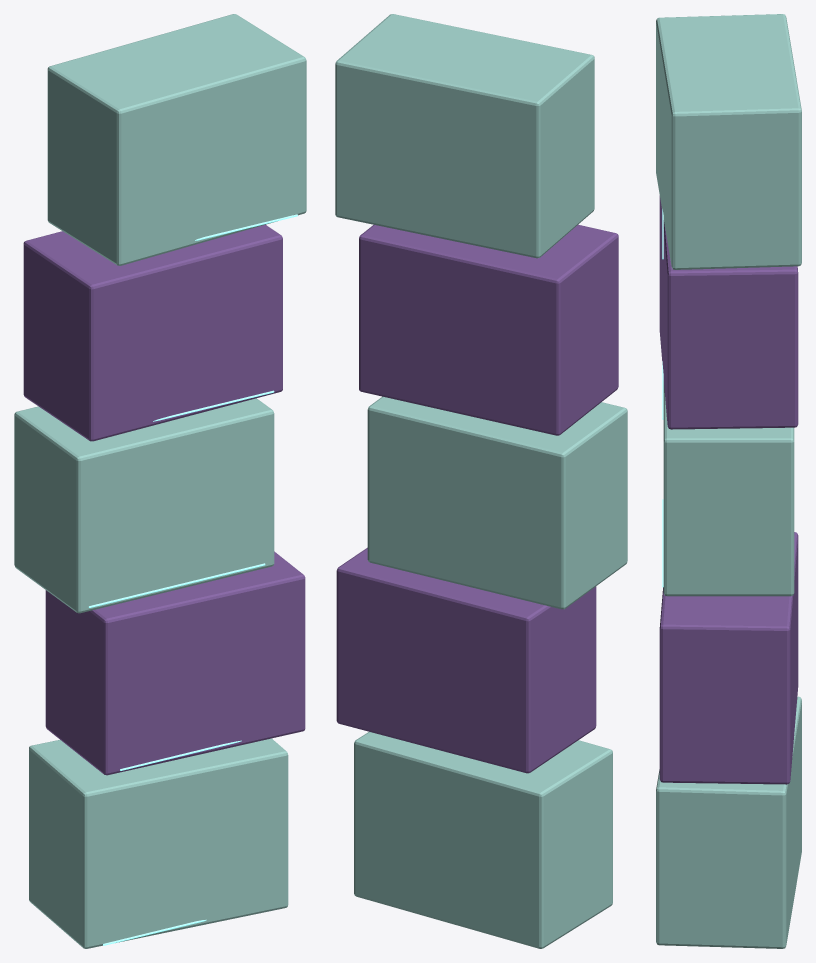
File: monolith.glb
3 views of the same model, side by side, from view 1: azimuth 30°, elevation 25°; view 2: azimuth 150°, elevation 25°; view 3: azimuth 270°, elevation 25° (orthographic).
Parts seen in each view (by area): view 1: LMW_Monolith_segment_4, LMW_Monolith_segment_3, LMW_Monolith_segment_0, LMW_Monolith_segment_2, LMW_Monolith_segment_1; view 2: LMW_Monolith_segment_4, LMW_Monolith_segment_3, LMW_Monolith_segment_2, LMW_Monolith_segment_0, LMW_Monolith_segment_1; view 3: LMW_Monolith_segment_4, LMW_Monolith_segment_1, LMW_Monolith_segment_0, LMW_Monolith_segment_3, LMW_Monolith_segment_2.
Boxes of the visible parts, left/top/right/bottom form: LMW_Monolith_segment_4: left=47, top=14, right=306, bottom=265; LMW_Monolith_segment_3: left=23, top=224, right=282, bottom=441; LMW_Monolith_segment_0: left=29, top=738, right=288, bottom=948; LMW_Monolith_segment_2: left=14, top=398, right=274, bottom=613; LMW_Monolith_segment_1: left=45, top=551, right=305, bottom=775; LMW_Monolith_segment_4: left=335, top=14, right=594, bottom=258; LMW_Monolith_segment_3: left=359, top=224, right=618, bottom=435; LMW_Monolith_segment_2: left=367, top=396, right=627, bottom=609; LMW_Monolith_segment_0: left=354, top=731, right=612, bottom=948; LMW_Monolith_segment_1: left=336, top=547, right=596, bottom=773; LMW_Monolith_segment_4: left=656, top=14, right=801, bottom=269; LMW_Monolith_segment_1: left=659, top=532, right=798, bottom=784; LMW_Monolith_segment_0: left=656, top=696, right=801, bottom=948; LMW_Monolith_segment_3: left=659, top=196, right=798, bottom=429; LMW_Monolith_segment_2: left=663, top=381, right=794, bottom=596.
Size of the model in its own units: 4.38 by 15 by 2.35.
